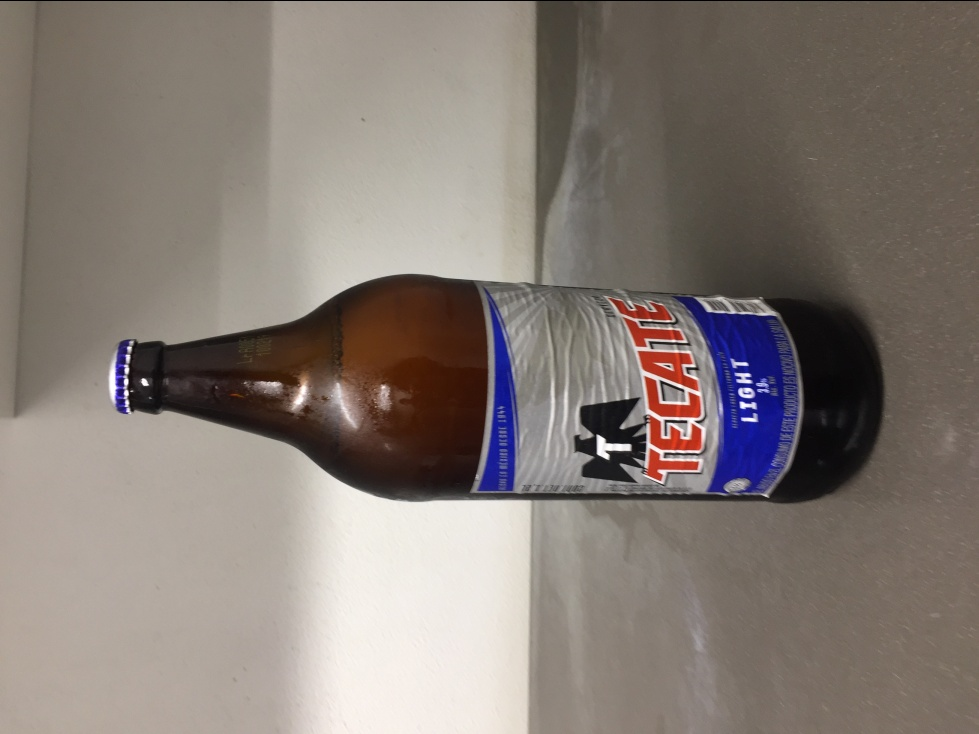tecateC: (108, 271, 872, 508)
